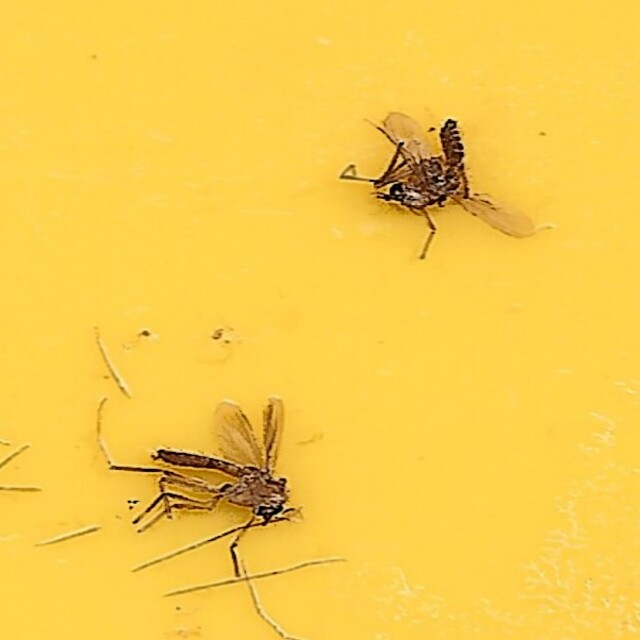Nematocera: (142, 395, 296, 534), (356, 106, 498, 229)
